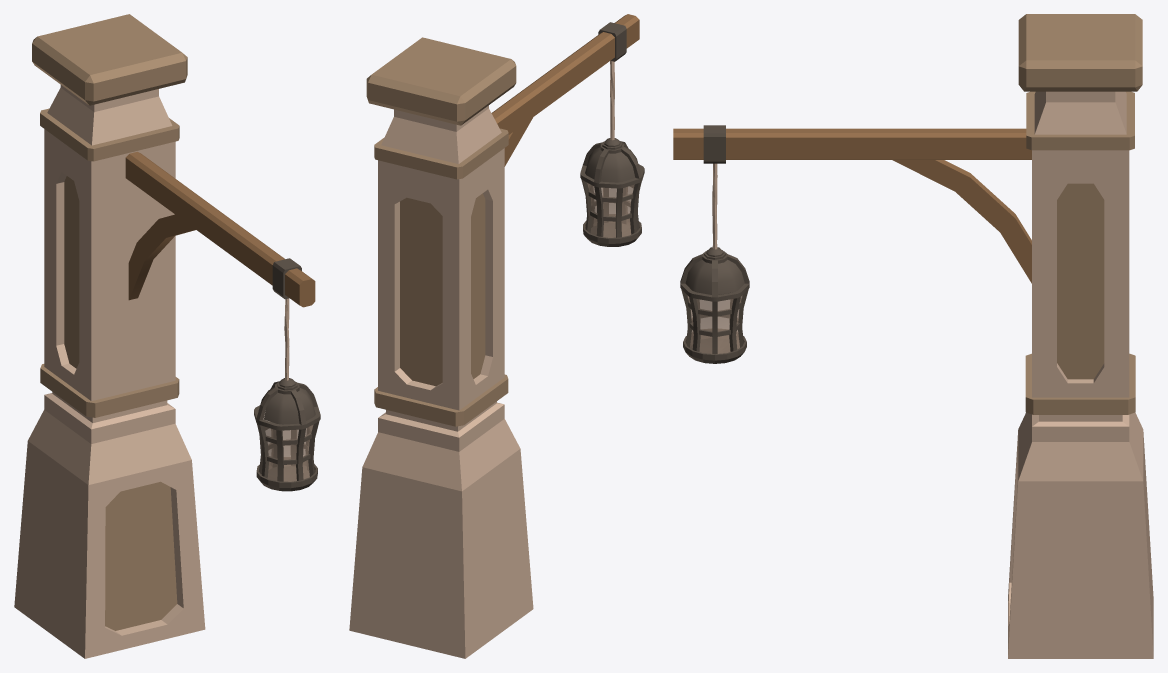
Rendered from street_oil_light.glb.
3 views of the same model, side by side, from view 1: azimuth 30°, elevation 25°; view 2: azimuth 150°, elevation 25°; view 3: azimuth 270°, elevation 25° (orthographic). The views are drawn at different scales.
Visible parts, largest first — view 1: street_oil_light; view 2: street_oil_light; view 3: street_oil_light.
Boxes of the visible parts, <box> form: street_oil_light: <box>14,14,320,658</box>; street_oil_light: <box>349,14,644,658</box>; street_oil_light: <box>673,14,1153,658</box>.
Size of the model in its own units: 1.03 by 4.68 by 3.44.
